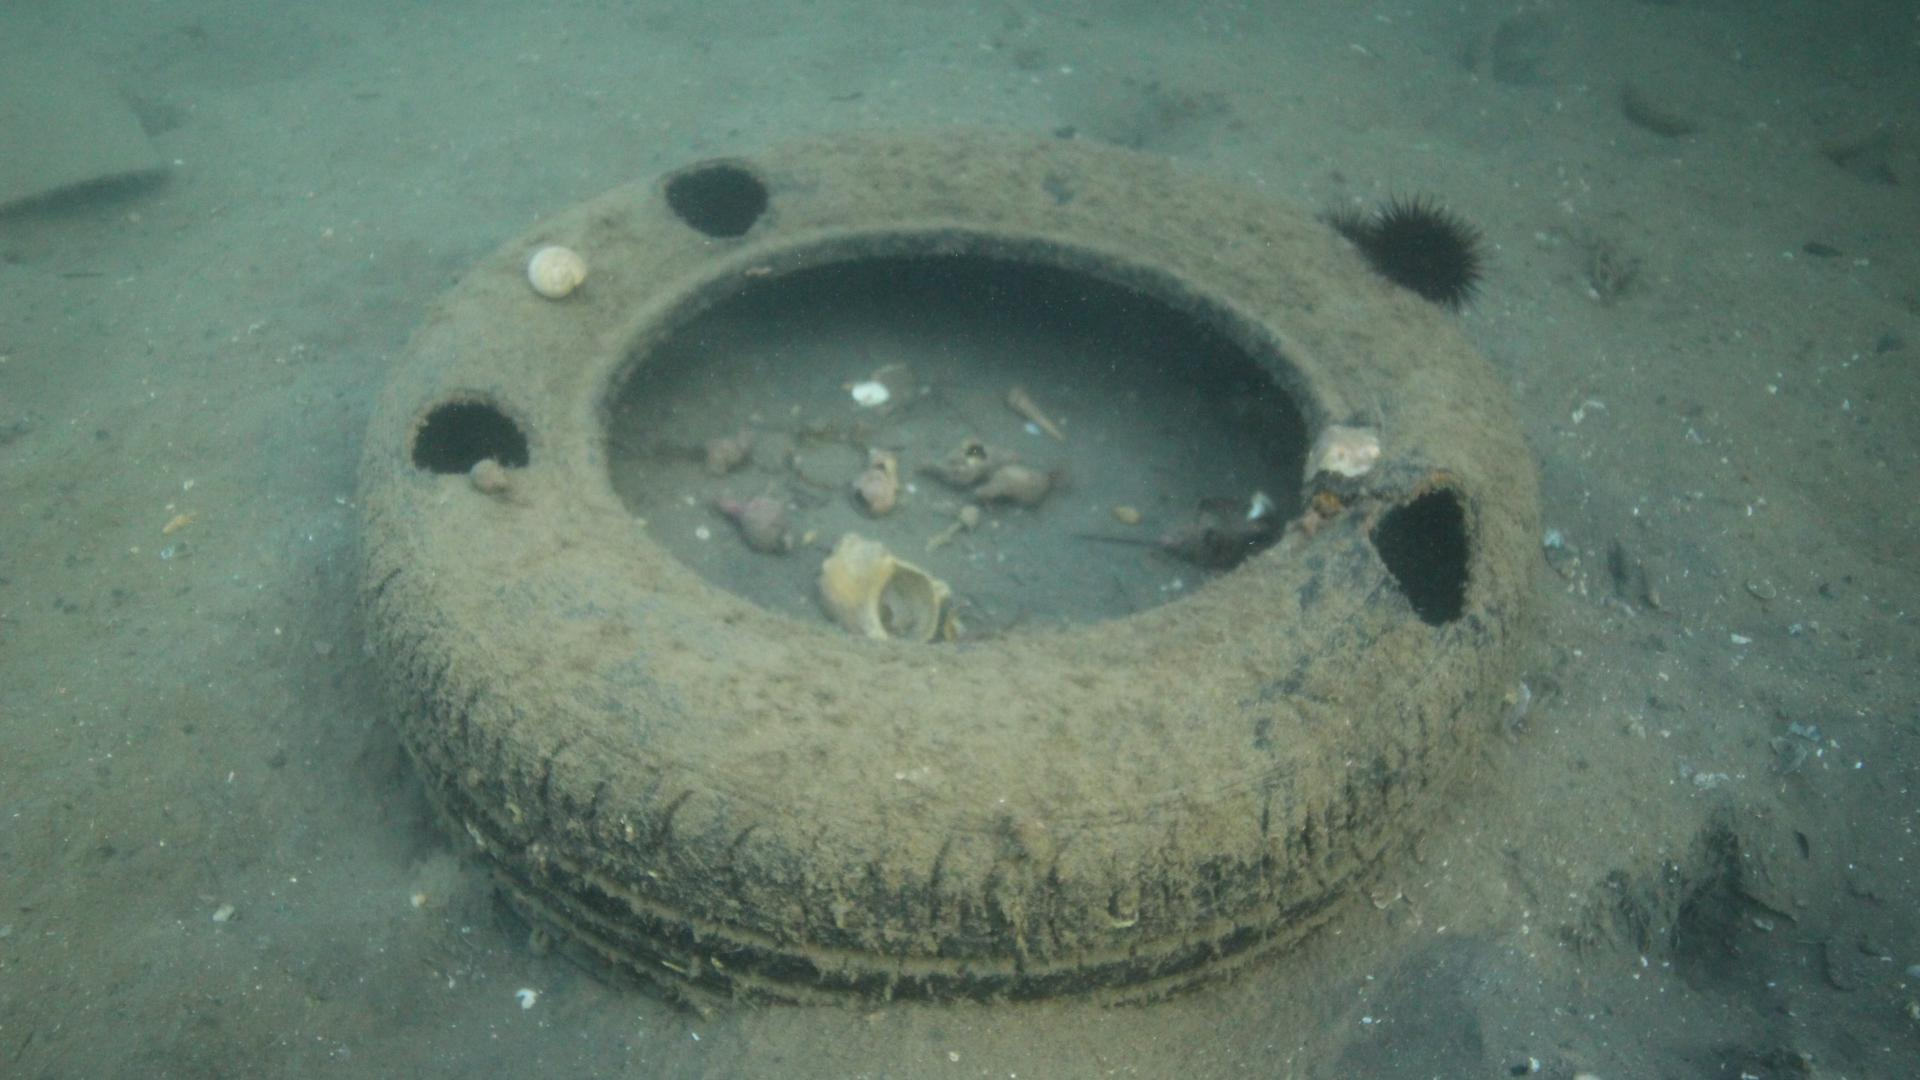tire: (352, 120, 1539, 1022)
